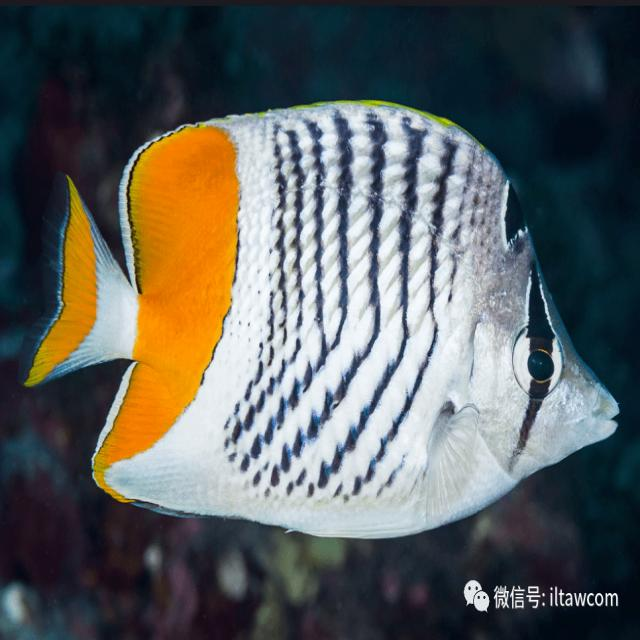ButterflyFish: (24, 96, 619, 536)
